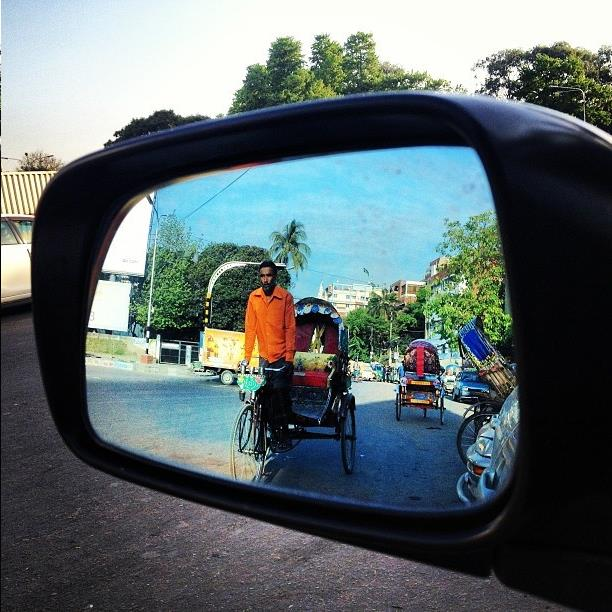Rickshaw: (229, 249, 367, 481), (450, 298, 512, 464), (392, 322, 446, 429)
